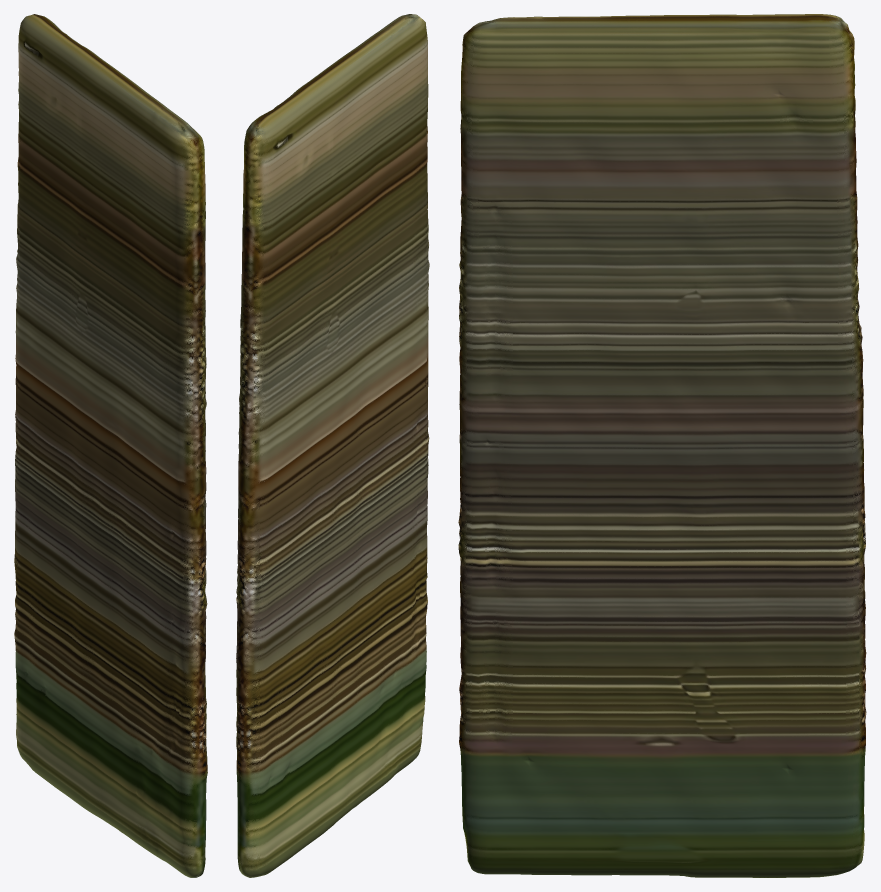
File: kfl-2264.glb
The picture shows the model from 3 angles, left to right: view 1: azimuth 30°, elevation 25°; view 2: azimuth 150°, elevation 25°; view 3: azimuth 270°, elevation 25°; orthographic projection. The views are drawn at different scales.
Visible parts, largest first — view 1: kfl-2264; view 2: kfl-2264; view 3: kfl-2264.
Boxes of the visible parts, x1,y1,x2,y2 form: kfl-2264: (14,14,207,877); kfl-2264: (236,14,429,877); kfl-2264: (458,14,866,877).
Size of the model in its own units: 0.0437 by 0.9936 by 0.4274.
Materials: 1 (1 with a texture image).
